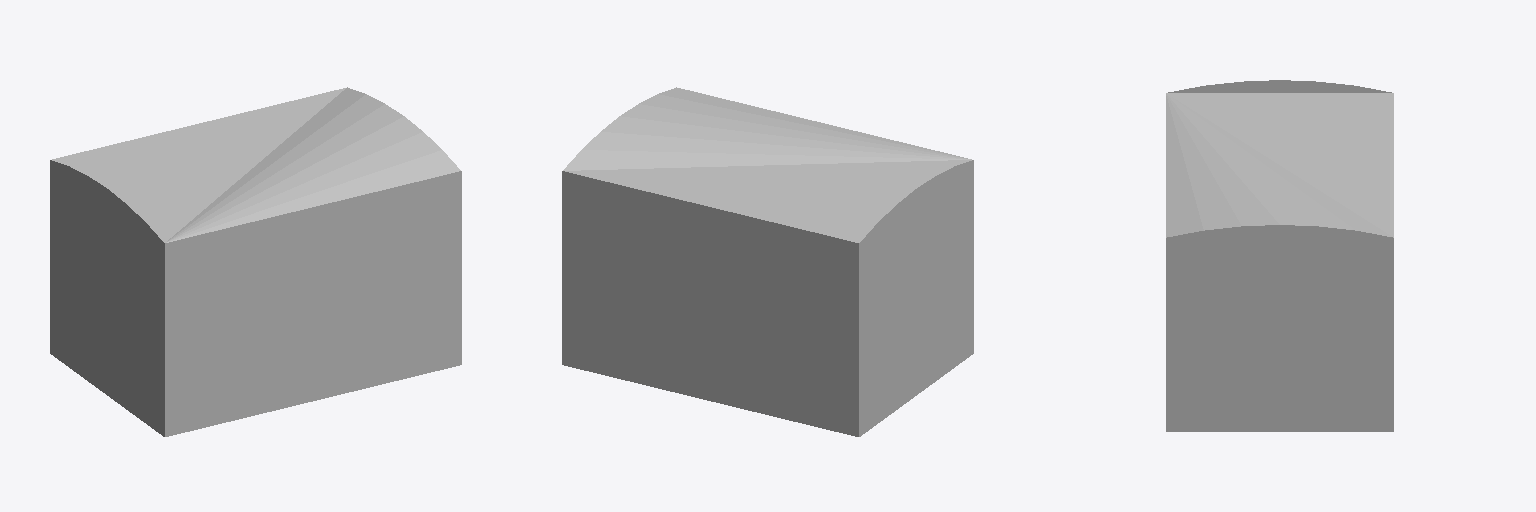
The model's file is Chest_Model.obj.
3 renders of one model, left to right at view 1: azimuth 30°, elevation 25°; view 2: azimuth 150°, elevation 25°; view 3: azimuth 270°, elevation 25°, orthographic.
Visible parts, largest first — view 1: pCube1, pCube2; view 2: pCube1, pCube2; view 3: pCube2, pCube1.
Boxes of the visible parts, x1=… form: pCube1: x1=50, y1=199, x2=461, y2=436; pCube2: x1=50, y1=87, x2=461, y2=281; pCube1: x1=562, y1=199, x2=973, y2=436; pCube2: x1=562, y1=87, x2=973, y2=281; pCube2: x1=1166, y1=80, x2=1393, y2=276; pCube1: x1=1166, y1=277, x2=1393, y2=431.
Bounding box in the file's own units: 3 × 2 × 2.